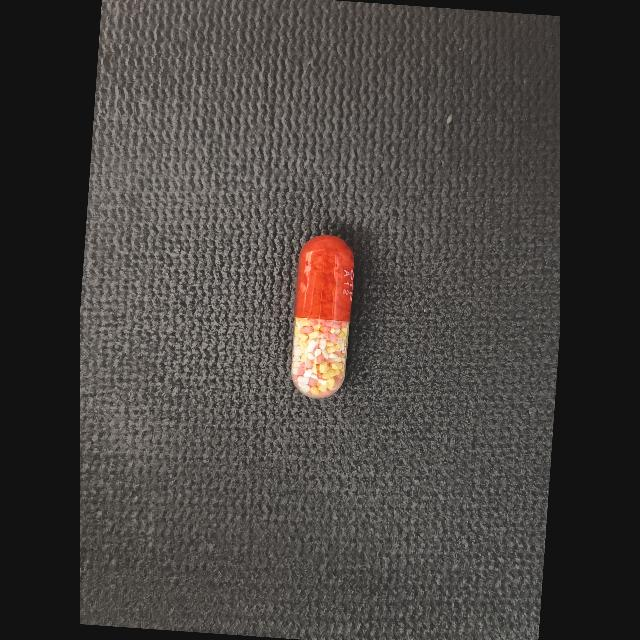Intact Capsule: (291, 235, 355, 398)
